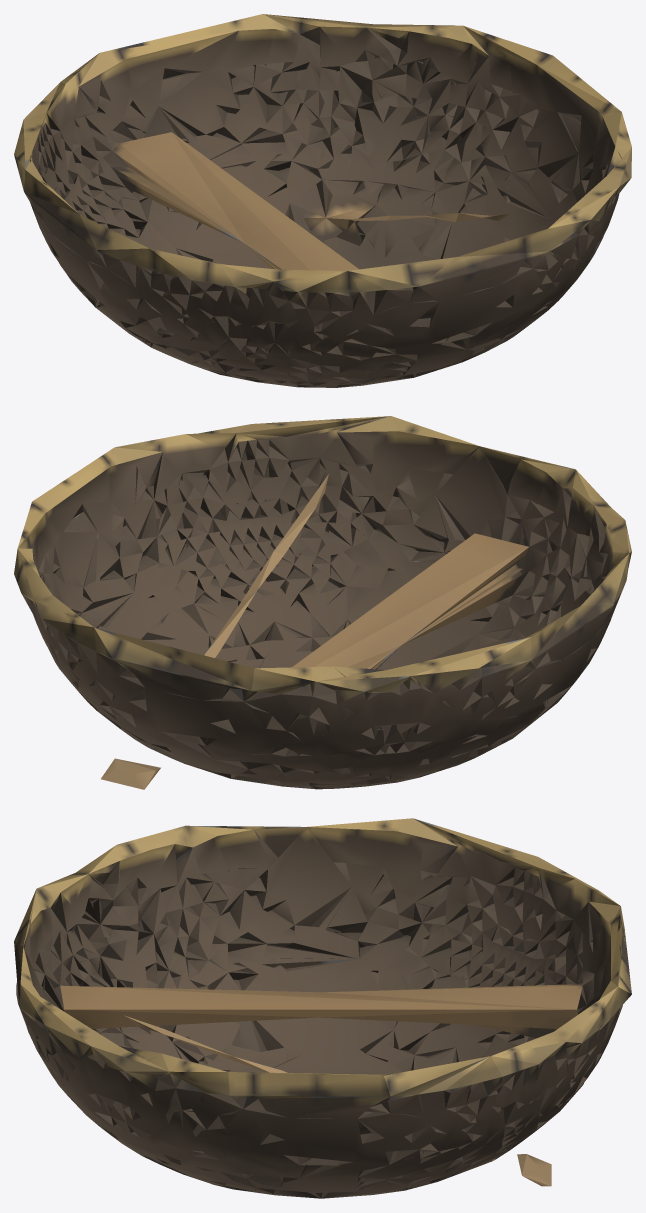
The model's file is thung_chai_edits.mid.glb.
The picture shows the model from 3 angles, top to bottom: view 1: azimuth 30°, elevation 25°; view 2: azimuth 150°, elevation 25°; view 3: azimuth 270°, elevation 25°; orthographic projection. The views are drawn at different scales.
Visible parts, largest first — view 1: thung_chai_edits; view 2: thung_chai_edits; view 3: thung_chai_edits.
Part boxes in pixels (left/top/right/bottom): thung_chai_edits: left=14, top=14, right=631, bottom=387; thung_chai_edits: left=14, top=416, right=631, bottom=789; thung_chai_edits: left=14, top=818, right=631, bottom=1198.
Bounding box in the file's own units: 1.78 × 0.6216 × 1.78.
Materials: 1 (1 with a texture image).
